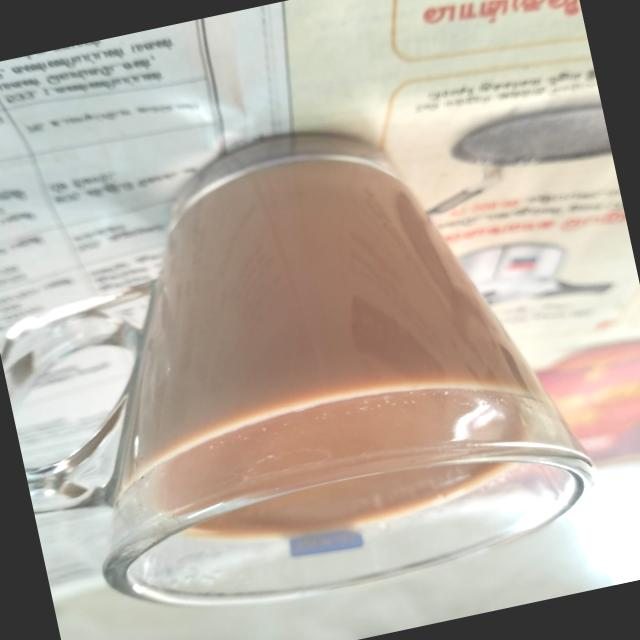glass-VX4N: (0, 85, 604, 640)
